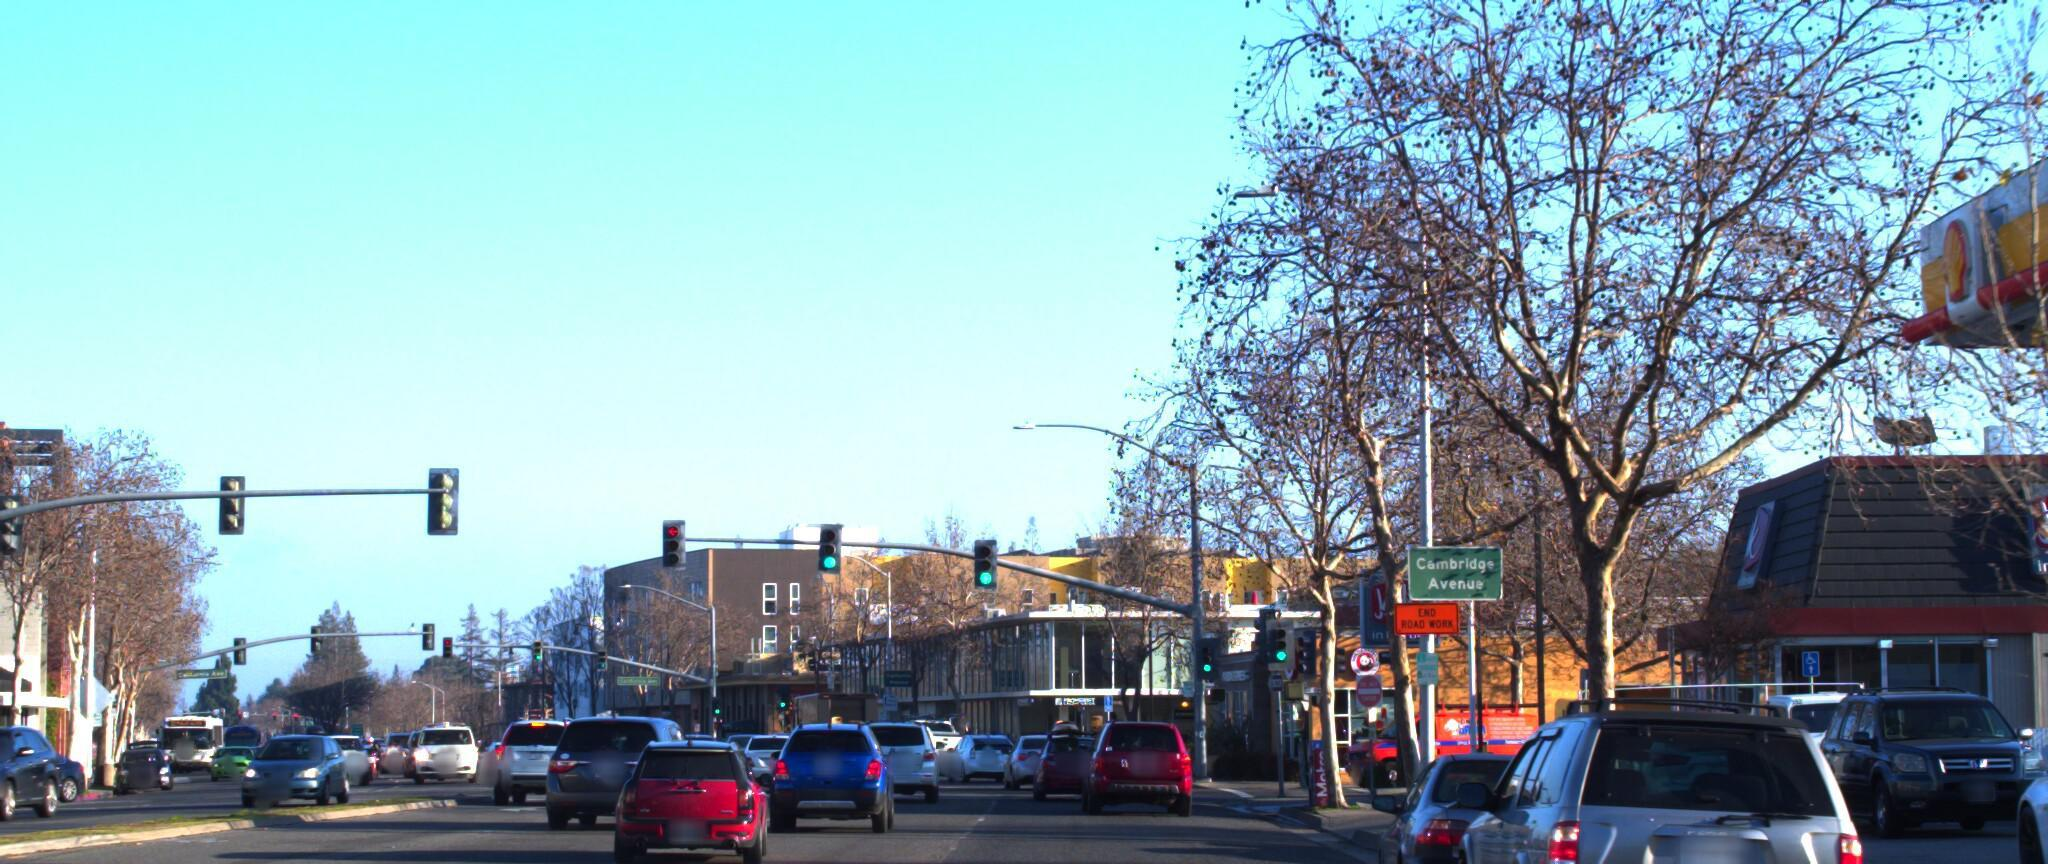car: (1411, 675, 1904, 864), (1347, 724, 1663, 864), (1784, 666, 2048, 826), (600, 710, 780, 861), (534, 687, 724, 824), (1318, 689, 1548, 775), (760, 705, 891, 818), (1960, 696, 2048, 864), (475, 694, 611, 795), (1068, 710, 1192, 801), (232, 711, 367, 791), (869, 715, 967, 808), (1017, 706, 1115, 795), (0, 694, 61, 805), (721, 706, 801, 777)
